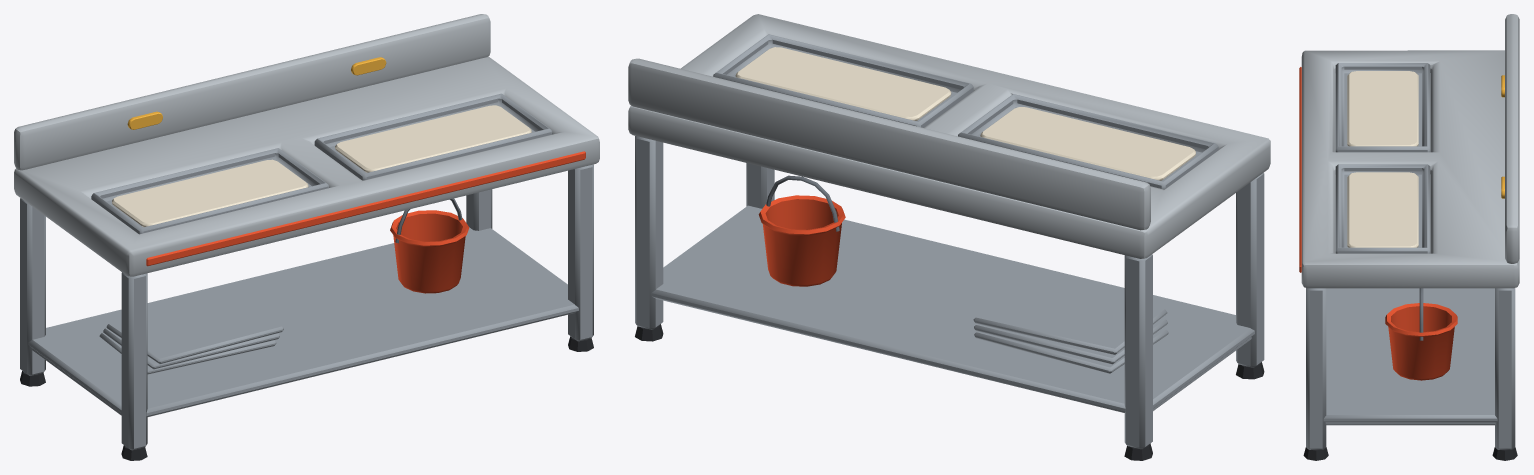
File: Kitchen_PrepStation.fbx
The picture shows the model from 3 angles, left to right: view 1: azimuth 30°, elevation 25°; view 2: azimuth 150°, elevation 25°; view 3: azimuth 270°, elevation 25°; orthographic projection. The views are drawn at different scales.
Parts seen in each view (by area): view 1: Worktop, Frame, Boards, Trays, Bucket, Stripe, Feet; view 2: Frame, Worktop, Boards, Trays, Bucket, Feet; view 3: Worktop, Frame, Boards, Trays, Bucket, Stripe, Feet, BucketHandle.
Boxes of the visible parts, left/top/right/bottom form: Worktop: left=14, top=14, right=599, bottom=276; Frame: left=20, top=164, right=593, bottom=450; Boards: left=112, top=105, right=531, bottom=227; Trays: left=91, top=93, right=552, bottom=234; Bucket: left=390, top=210, right=469, bottom=293; Stripe: left=146, top=151, right=585, bottom=266; Feet: left=20, top=336, right=593, bottom=460; Frame: left=635, top=136, right=1264, bottom=449; Worktop: left=628, top=14, right=1270, bottom=258; Boards: left=735, top=47, right=1195, bottom=180; Trays: left=713, top=34, right=1218, bottom=189; Bucket: left=758, top=195, right=845, bottom=286; Feet: left=635, top=324, right=1264, bottom=460; Worktop: left=1301, top=14, right=1519, bottom=288; Frame: left=1306, top=288, right=1515, bottom=449; Boards: left=1347, top=71, right=1418, bottom=247; Trays: left=1335, top=63, right=1430, bottom=253; Bucket: left=1385, top=303, right=1457, bottom=380; Stripe: left=1299, top=67, right=1301, bottom=272; Feet: left=1303, top=447, right=1517, bottom=460; BucketHandle: left=1419, top=288, right=1423, bottom=340.
Size of the model in its own units: 700 by 357 by 303.
